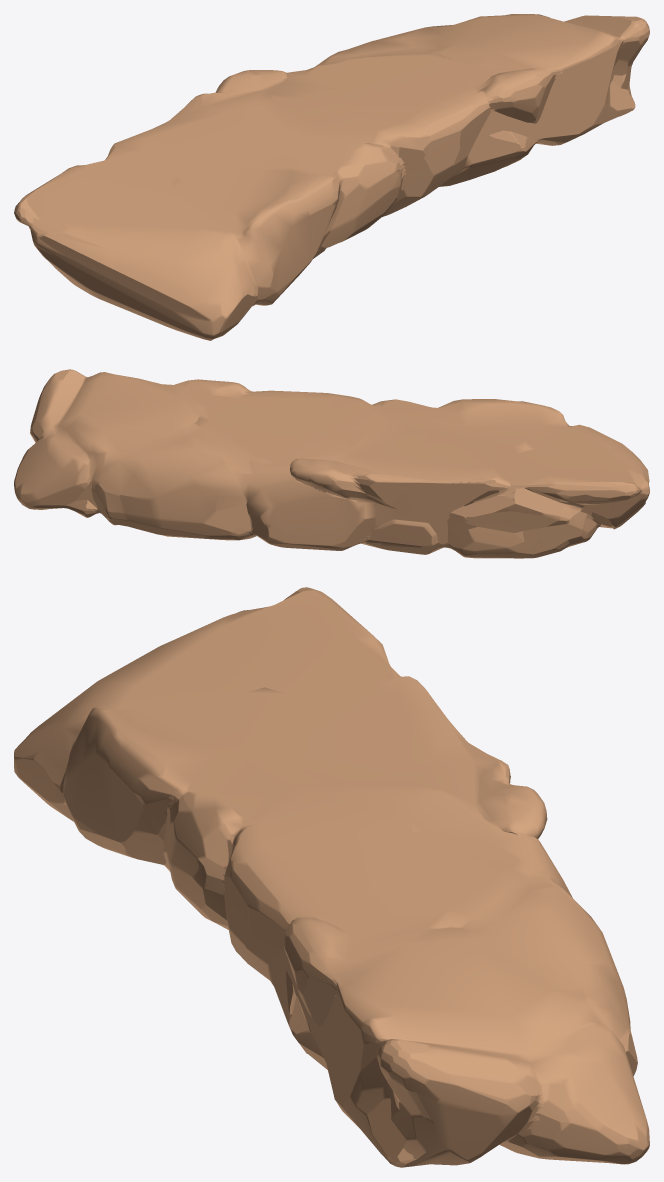
The picture shows the model from 3 angles, top to bottom: view 1: azimuth 30°, elevation 25°; view 2: azimuth 150°, elevation 25°; view 3: azimuth 270°, elevation 25°; orthographic projection. The views are drawn at different scales.
Parts seen in each view (by area): view 1: Mesh_59_LOD0; view 2: Mesh_59_LOD0; view 3: Mesh_59_LOD0.
Boxes of the visible parts, x1,y1,x2,y2 form: Mesh_59_LOD0: (14,14,649,340); Mesh_59_LOD0: (14,369,649,558); Mesh_59_LOD0: (14,587,649,1167).
Size of what is drawn, in the model's own units: 4138 by 623 by 2337.
